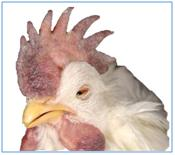AbNormal: (16, 8, 113, 96)
